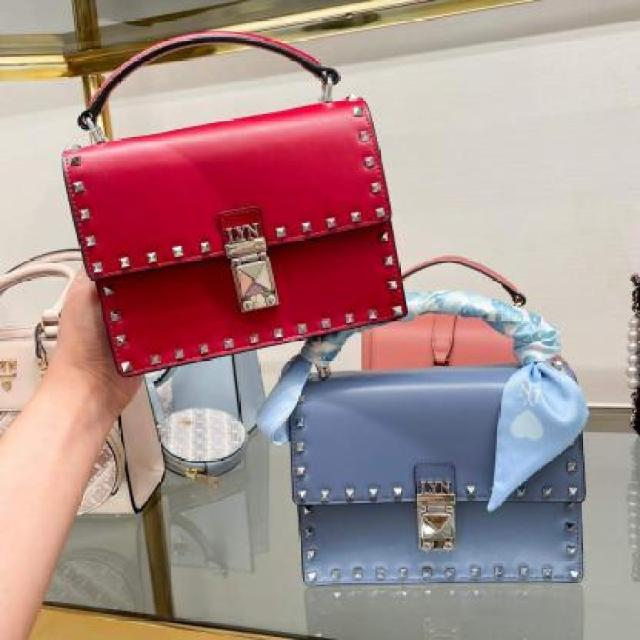Bag: (41, 11, 439, 387), (256, 248, 615, 608)
